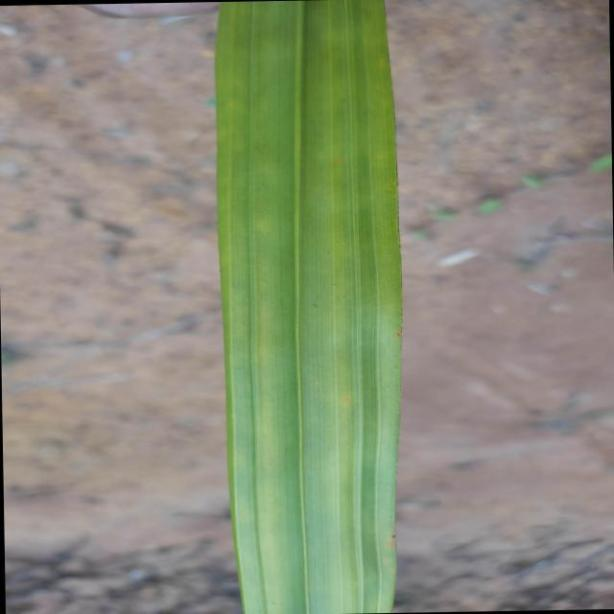nitrogen: (214, 1, 407, 614)
